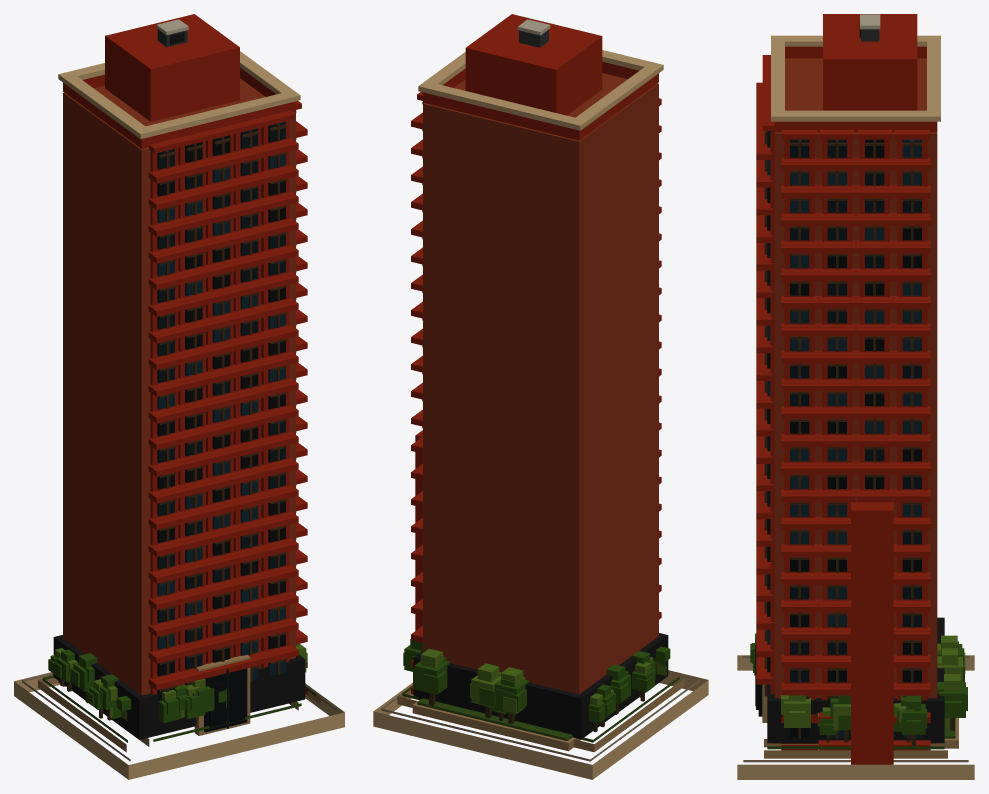
File: SM_StreetFrontage_004.fbx
The picture shows the model from 3 angles, left to right: view 1: azimuth 30°, elevation 25°; view 2: azimuth 150°, elevation 25°; view 3: azimuth 270°, elevation 25°; orthographic projection. The views are drawn at different scales.
Parts seen in each view (by area): view 1: SM_StreetFrontage_004; view 2: SM_StreetFrontage_004; view 3: SM_StreetFrontage_004.
Boxes of the visible parts, left/top/right/bottom form: SM_StreetFrontage_004: left=14, top=14, right=344, bottom=779; SM_StreetFrontage_004: left=373, top=14, right=708, bottom=779; SM_StreetFrontage_004: left=737, top=14, right=974, bottom=779.
Size of the model in its own units: 14 by 12.85 by 42.13.
